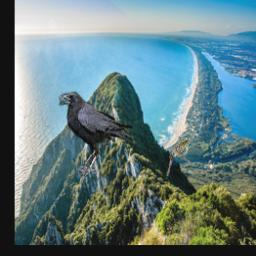Crow: (60, 92, 135, 177)
Sparrow: (165, 138, 191, 177)
